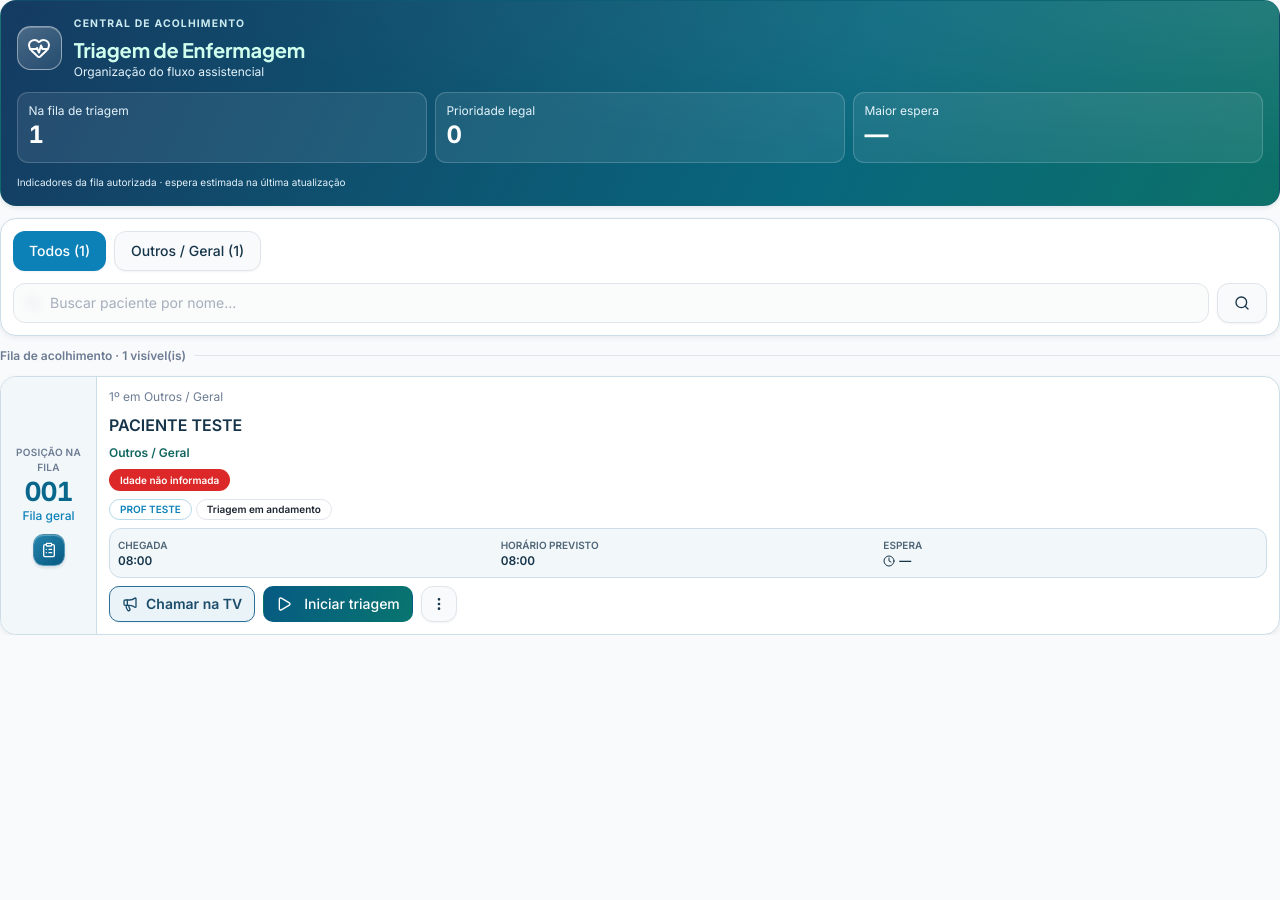
Scenario: Triagem: bloqueio de valores antes da requisição › aceita vírgula decimal e recupera o botão depois da correção
Click the button "Iniciar triagem": coordinates (338, 604) [263, 586, 413, 622]
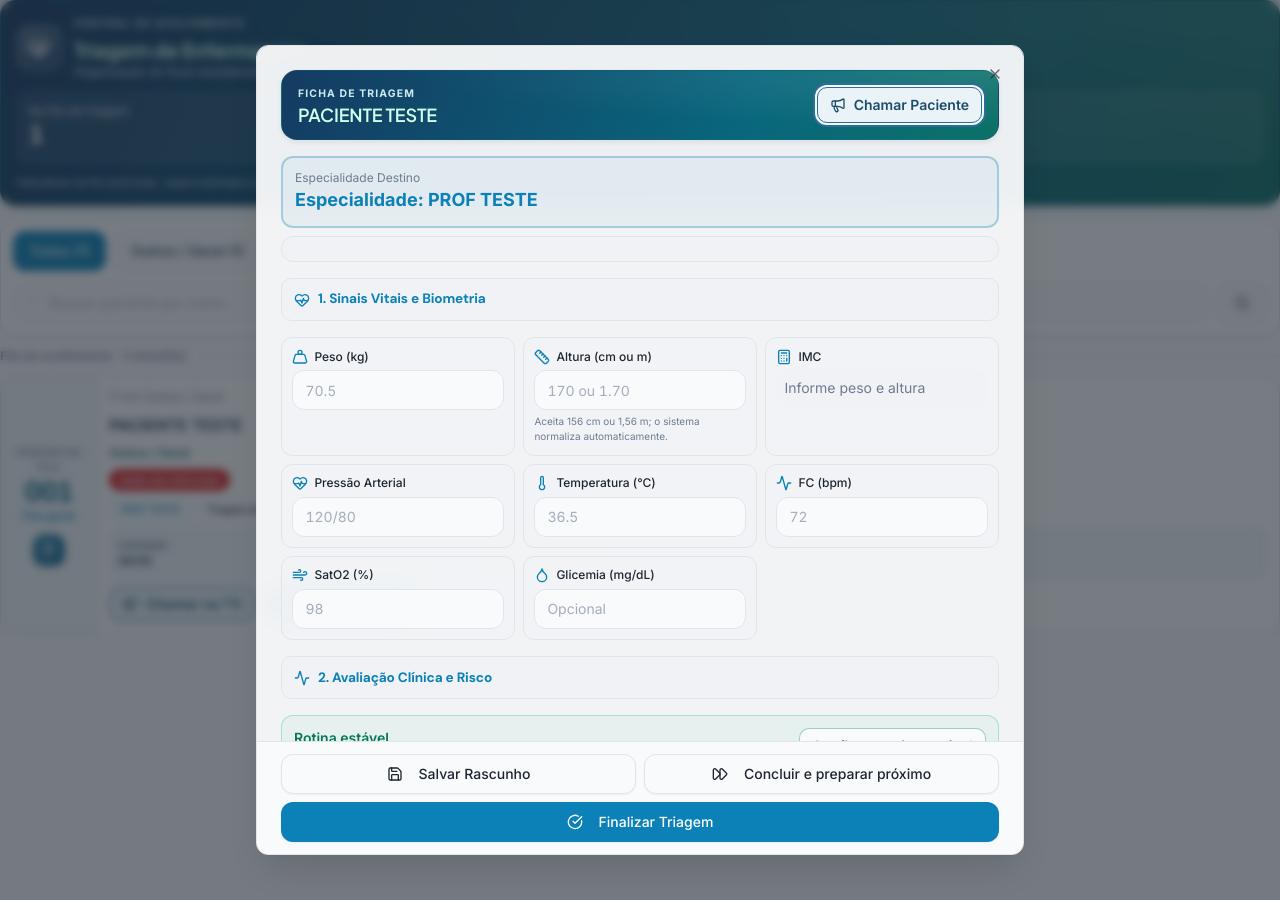
Expected: the field named "Peso (kg)" is shown
In the field named "Peso (kg)": coordinates (398, 390) [292, 370, 504, 410], type "63,0"
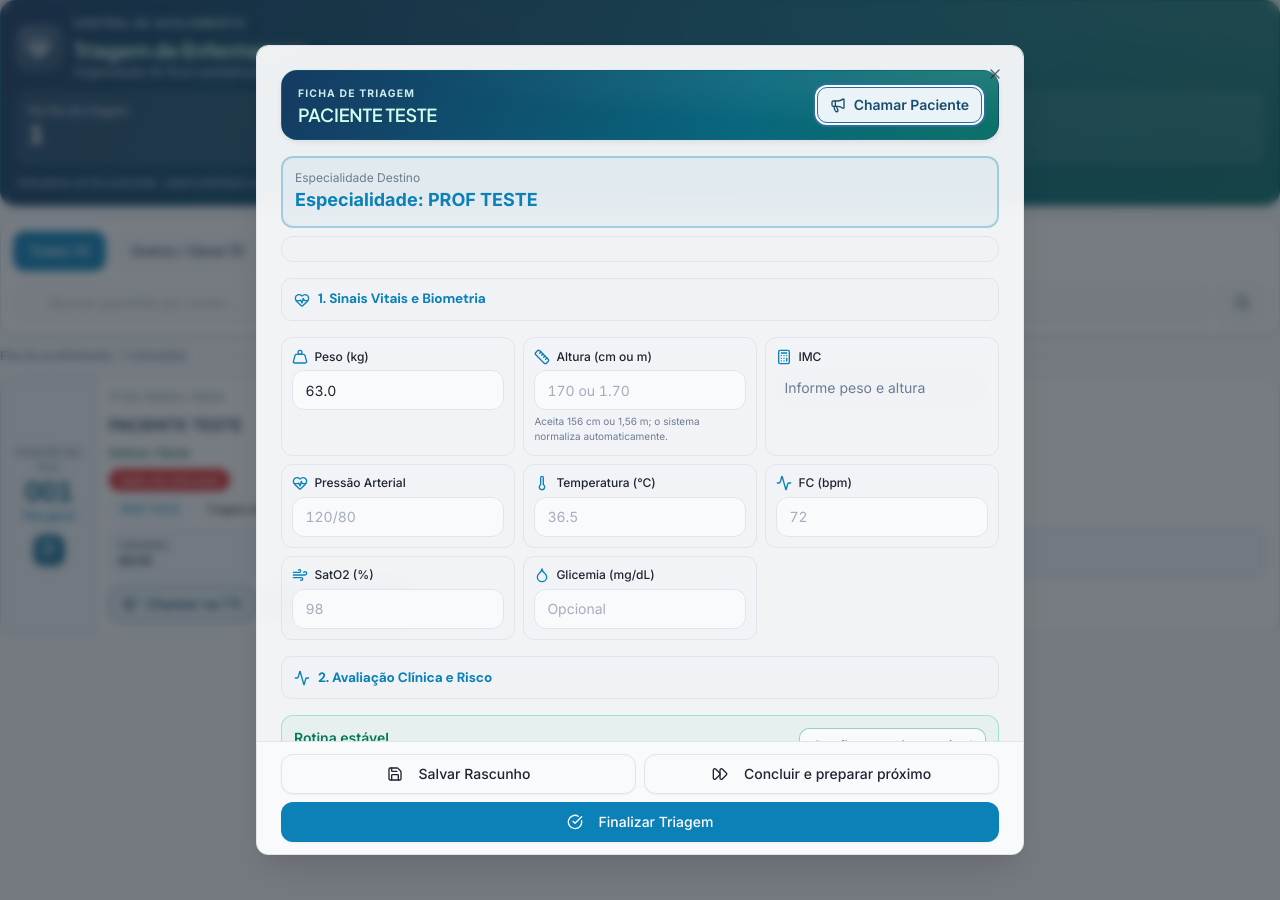
In the field named "Altura (cm ou m)": coordinates (640, 390) [534, 370, 746, 410], type "1,56"
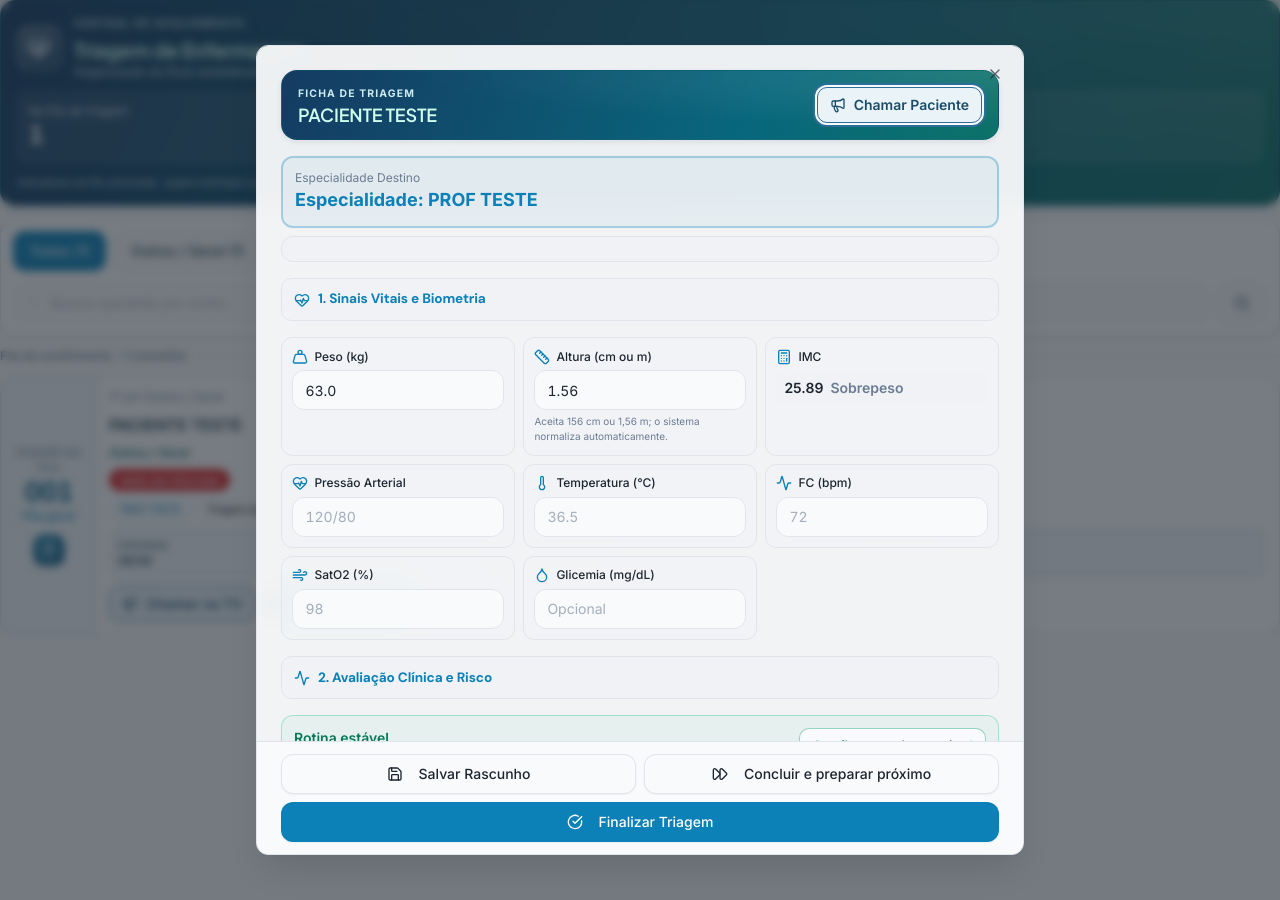
Expected: the field named "Peso (kg)" holds "63.0", [292, 370, 504, 410]
Expected: the button "Finalizar Triagem" is enabled, [281, 802, 999, 842]
Expected: the field named "Altura (cm ou m)" holds "1.56", [534, 370, 746, 410]
